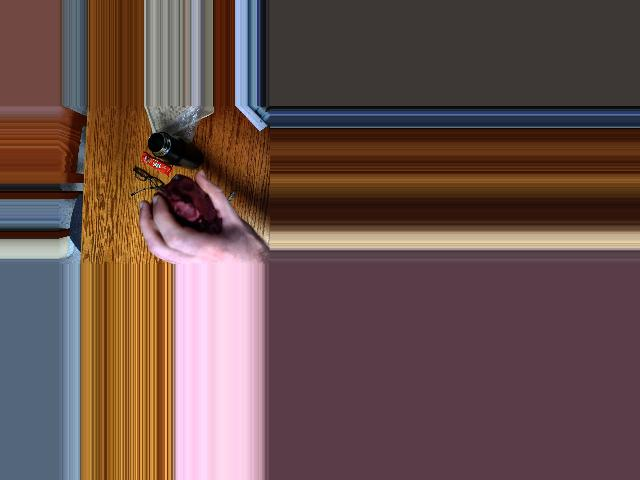onion: (150, 180, 216, 236)
